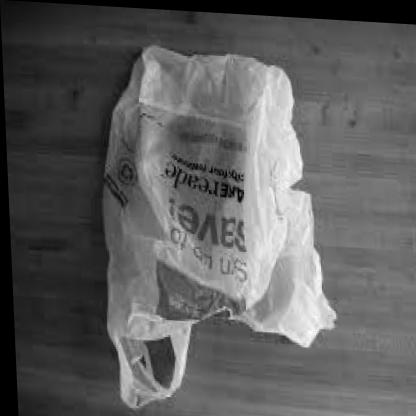Plastic: (62, 20, 366, 416)
